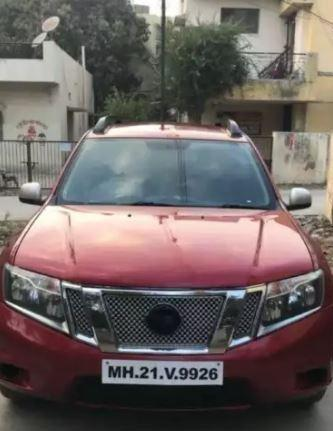License-Plate: (106, 355, 228, 390)
